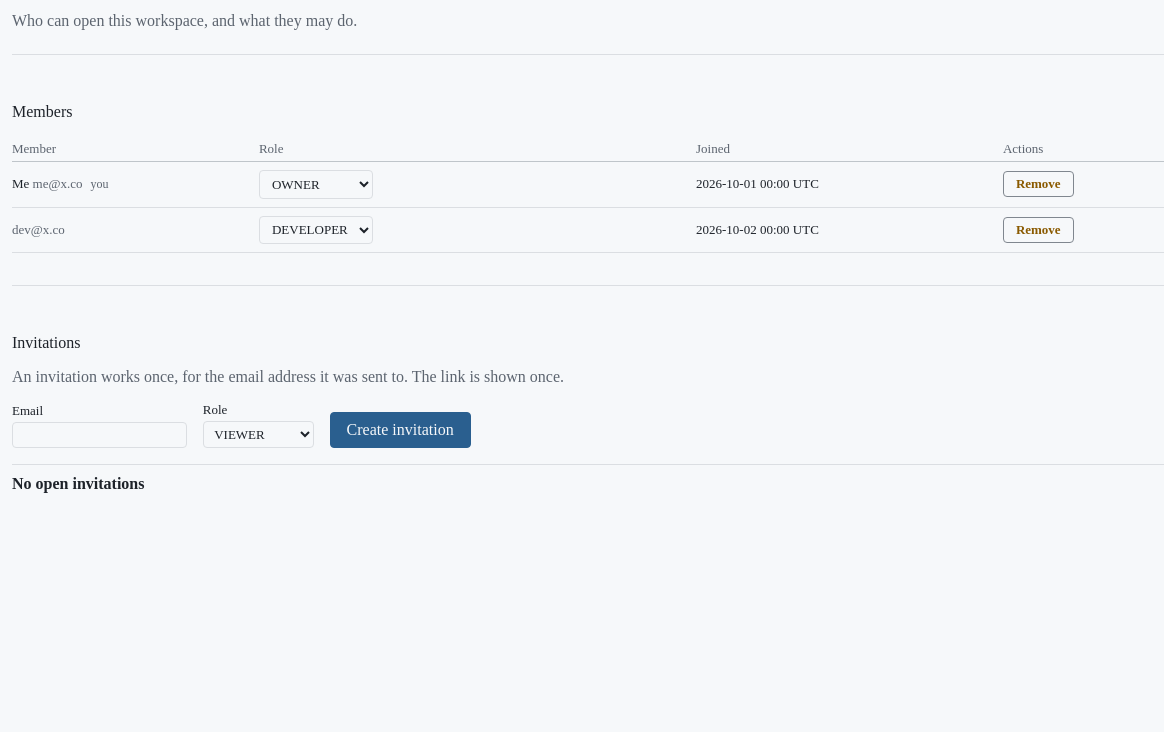
Test: Members › changes a role, asks twice before removing, and shows a refusal as a banner
The image size is (1164, 732).
Step 1. Select "VIEWER" in the dropdown named "Role of dev@x.co" → (316, 230), box [259, 216, 373, 244]
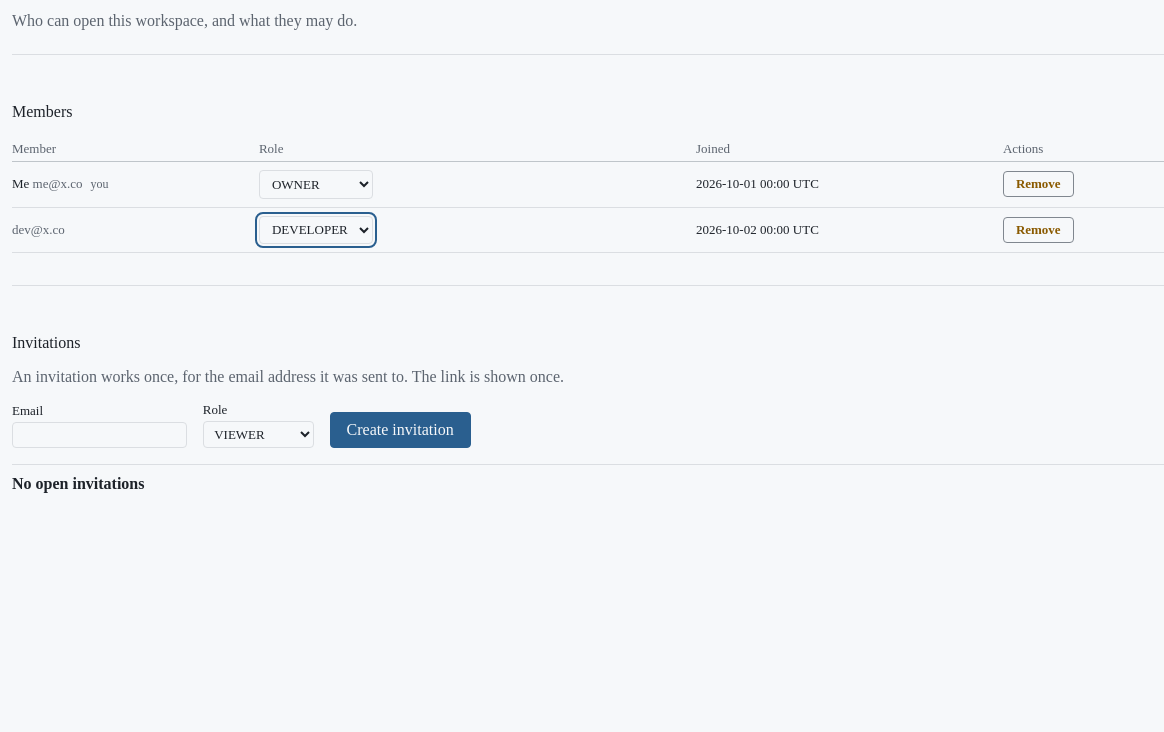
Step 2. Click the button "Remove" in the row of "dev@x.co" → click(1038, 230), box [1003, 217, 1074, 243]
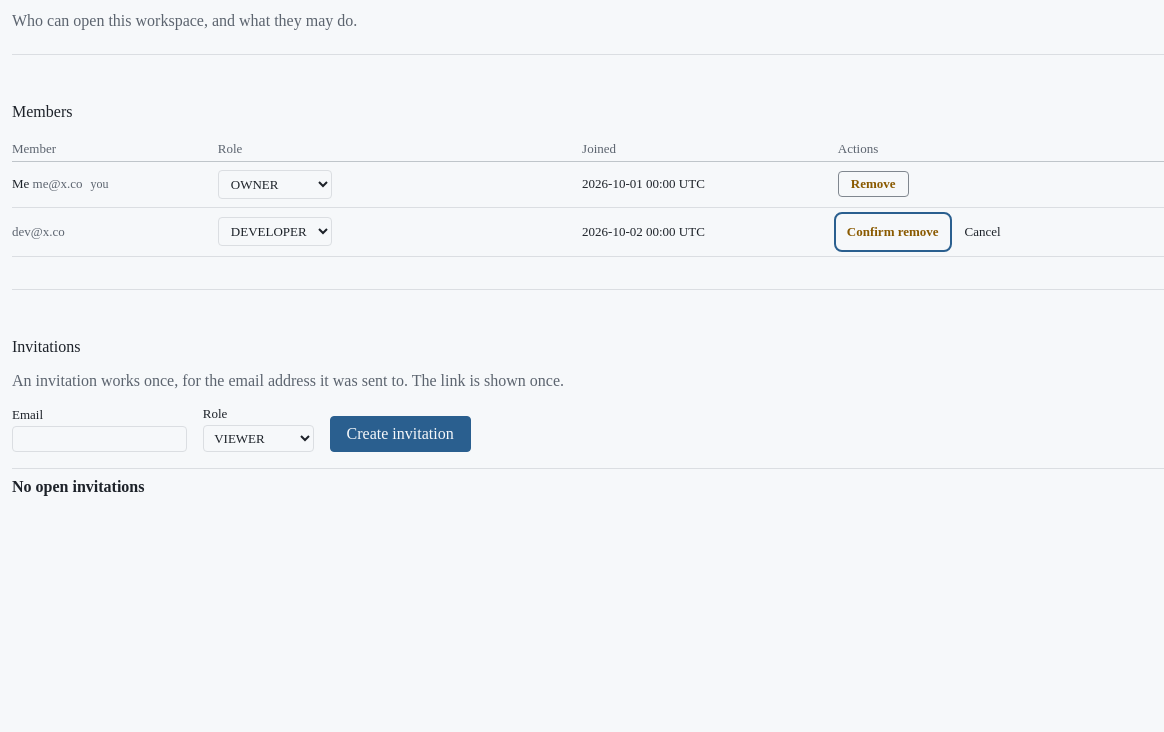
Step 3. Click the button "Confirm remove" → click(893, 232), box [838, 216, 948, 248]
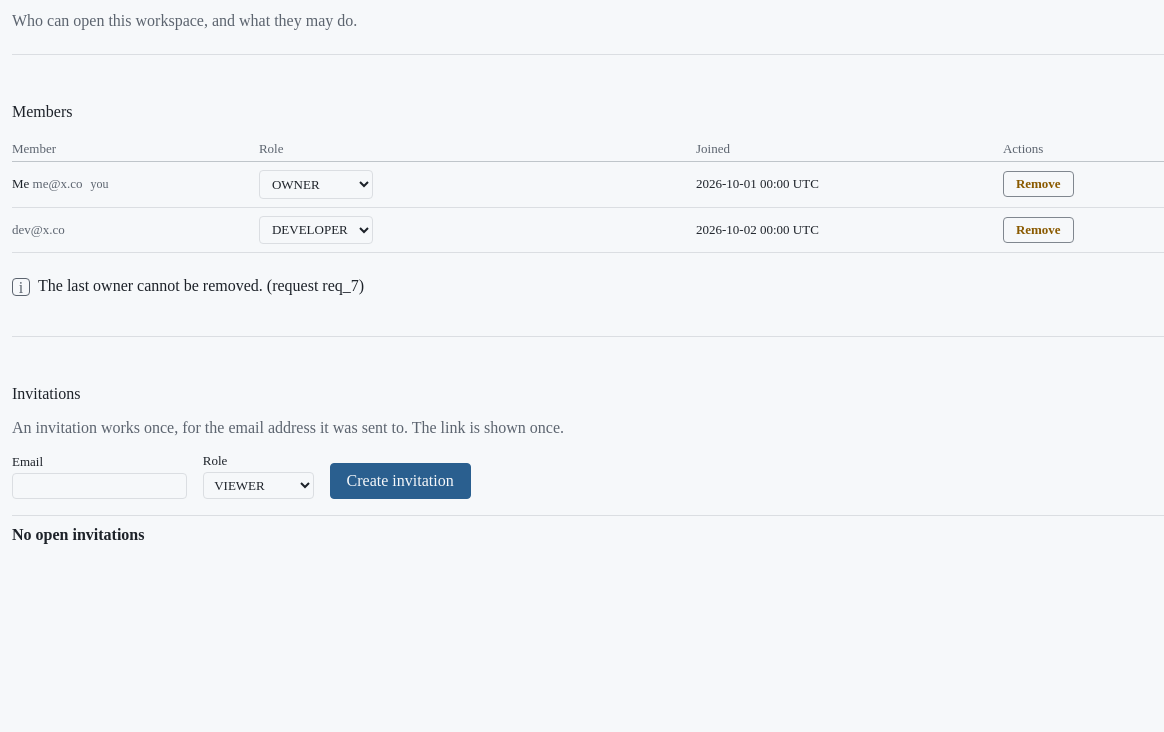
Expected: the message shows "The last owner cannot be removed.", [38, 277, 263, 294]
